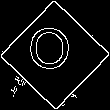O_S: (33, 29, 77, 81)
